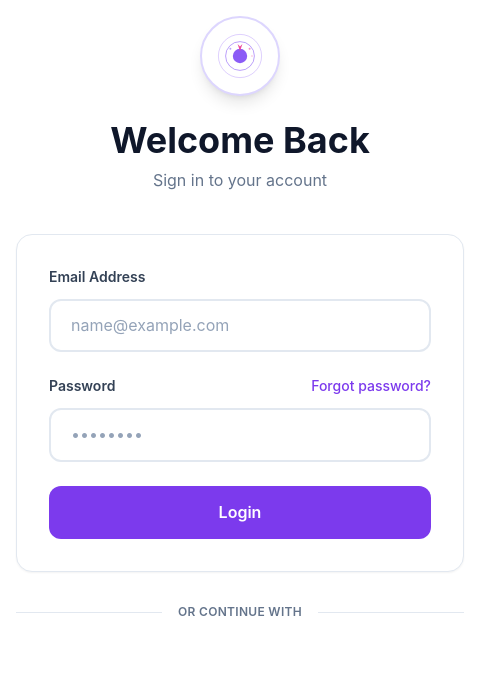
auth-flow.test.tsx › LoginForm › should display error message on failed login
The width and height of the screenshot is (481, 675).
Type "test@example.com" into the field with test id "auth-login-email" at (240, 325), box [49, 299, 431, 352]
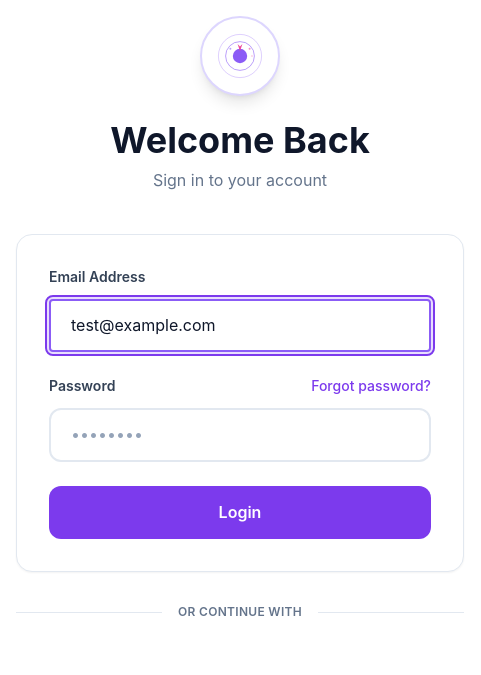
Type "wrongpassword" into the password field with test id "auth-login-password" at (240, 435), box [49, 408, 431, 462]
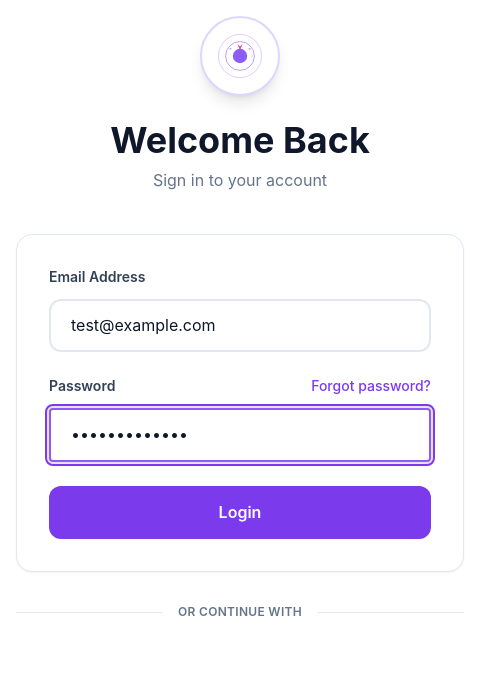
Click the button with test id "auth-login-submit" at (240, 513), box [49, 486, 431, 539]
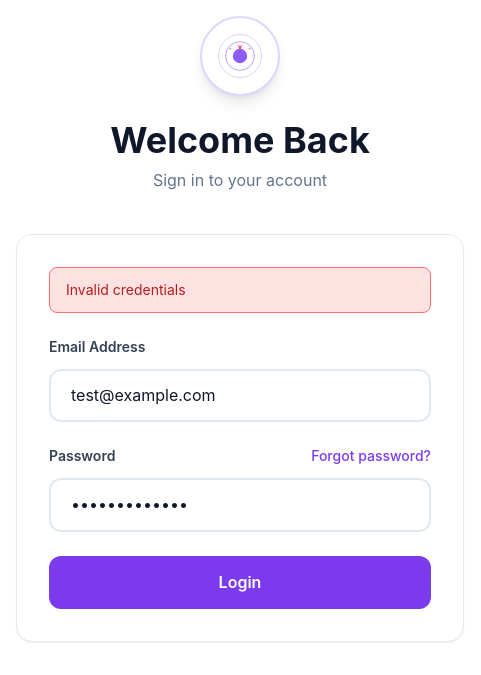
Result: the text "Invalid credentials" is shown at [49, 267, 431, 313]
